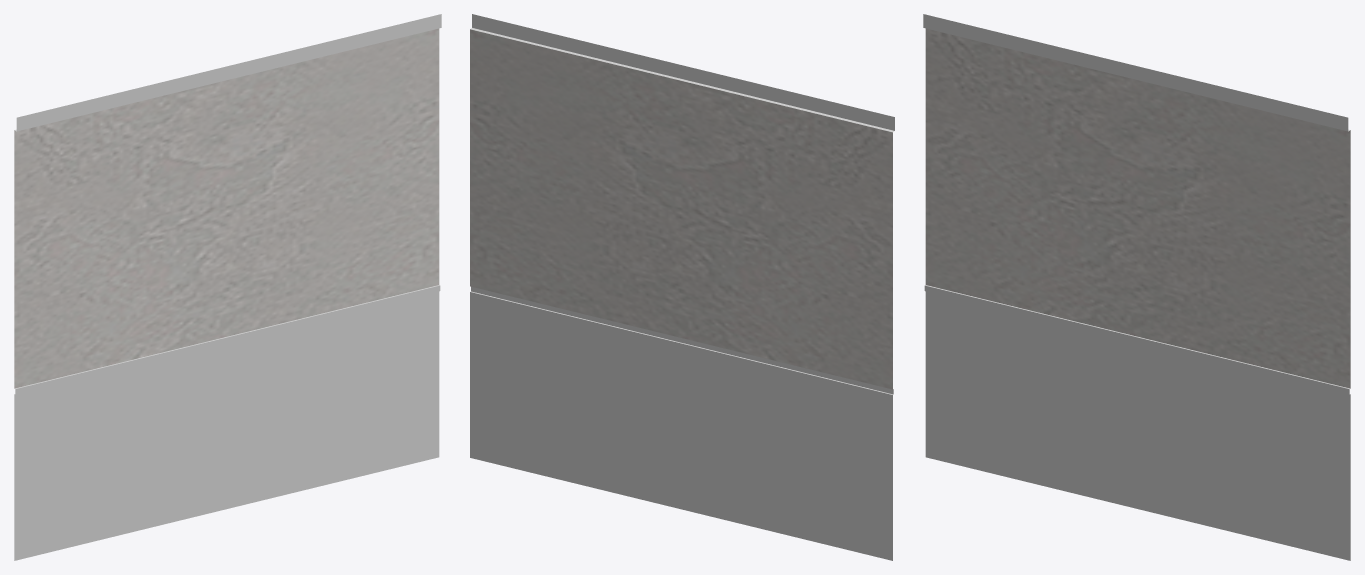
File: Wall_Of.fbx
3 views of the same model, side by side, from view 1: azimuth 30°, elevation 25°; view 2: azimuth 150°, elevation 25°; view 3: azimuth 330°, elevation 25° (orthographic).
Parts seen in each view (by area): view 1: Wall.001; view 2: Wall.001; view 3: Wall.001.
Boxes of the visible parts, x1,y1,x2,y2 form: Wall.001: (14, 14, 441, 560); Wall.001: (470, 14, 894, 560); Wall.001: (923, 14, 1350, 560).
Size of the model in its own units: 300 by 300 by 2.5.
